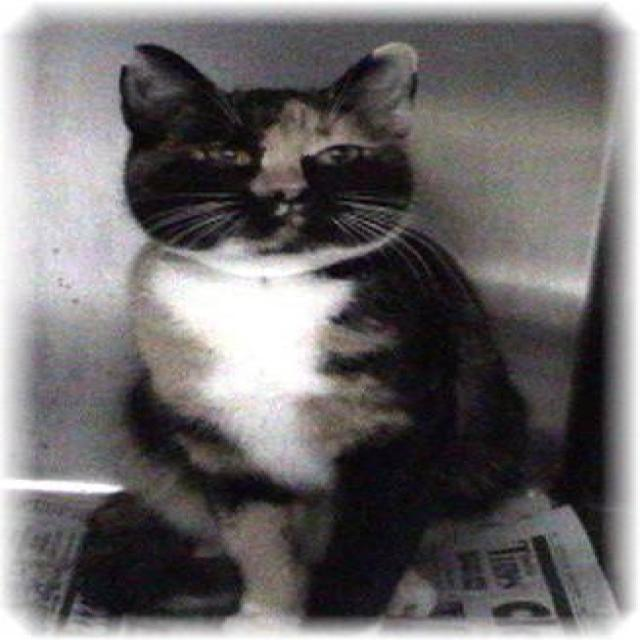cat: (92, 40, 548, 623)
